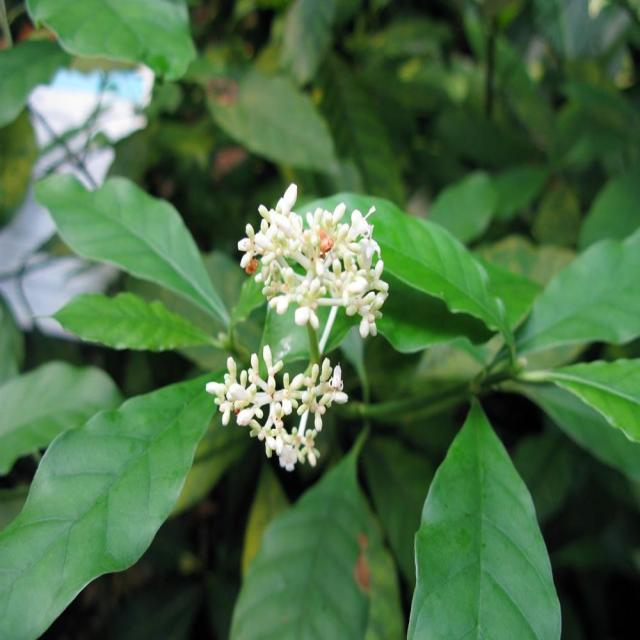Ipecac: (0, 47, 490, 640), (92, 117, 640, 572), (88, 281, 411, 585), (200, 194, 402, 376)
